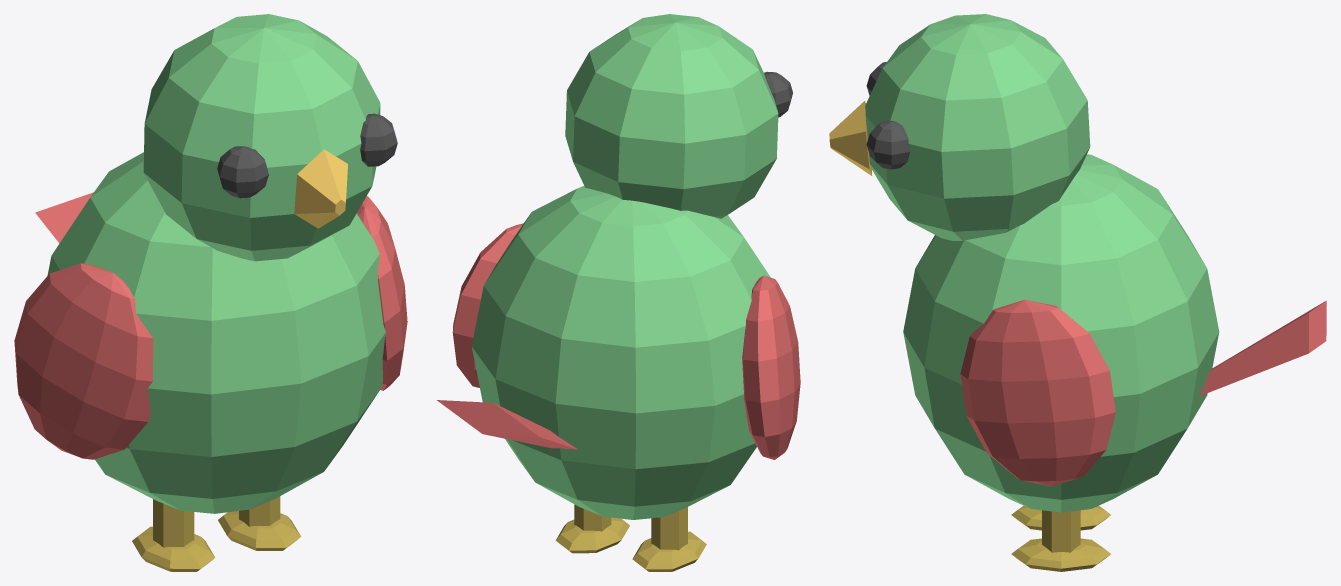
Rendered from grotto_parrot.fbx.
3 renders of one model, left to right at view 1: azimuth 30°, elevation 25°; view 2: azimuth 150°, elevation 25°; view 3: azimuth 270°, elevation 25°, orthographic. The views are drawn at different scales.
Visible parts, largest first — view 1: Parrot_Body, Parrot_Head, Parrot_WingL, Parrot_WingR, Parrot_BeakUpper, Parrot_EyeL, Parrot_FootL, Parrot_FootR, Parrot_LegL, Parrot_EyeR, Parrot_Tail, Parrot_LegR; view 2: Parrot_Body, Parrot_Head, Parrot_WingL, Parrot_WingR, Parrot_Tail, Parrot_FootL, Parrot_FootR, Parrot_LegL, Parrot_EyeL, Parrot_LegR; view 3: Parrot_Body, Parrot_Head, Parrot_WingR, Parrot_Tail, Parrot_FootR, Parrot_BeakUpper, Parrot_EyeR, Parrot_LegR, Parrot_FootL.
Part boxes in pixels (box(x1,y1,x2,y2)): Parrot_Body: box(47, 152, 385, 513); Parrot_Head: box(143, 14, 380, 261); Parrot_WingL: box(14, 263, 153, 459); Parrot_WingR: box(357, 196, 407, 390); Parrot_BeakUpper: box(294, 149, 347, 228); Parrot_EyeL: box(217, 146, 268, 198); Parrot_FootL: box(132, 526, 215, 571); Parrot_FootR: box(218, 511, 300, 550); Parrot_LegL: box(153, 499, 194, 547); Parrot_EyeR: box(360, 113, 397, 166); Parrot_Tail: box(35, 192, 93, 243); Parrot_LegR: box(239, 496, 280, 526); Parrot_Body: box(471, 186, 770, 519); Parrot_Head: box(565, 14, 778, 218); Parrot_WingL: box(742, 275, 800, 459); Parrot_WingR: box(452, 223, 523, 387); Parrot_Tail: box(437, 400, 577, 449); Parrot_FootL: box(632, 531, 706, 571); Parrot_FootR: box(555, 517, 629, 553); Parrot_LegL: box(651, 507, 687, 550); Parrot_EyeL: box(764, 71, 792, 117); Parrot_LegR: box(574, 504, 611, 531); Parrot_Body: box(903, 154, 1219, 512); Parrot_Head: box(865, 14, 1090, 240); Parrot_WingR: box(960, 299, 1115, 486); Parrot_Tail: box(1200, 300, 1326, 395); Parrot_FootR: box(1011, 538, 1110, 571); Parrot_BeakUpper: box(829, 101, 872, 175); Parrot_EyeR: box(866, 120, 910, 169); Parrot_LegR: box(1042, 510, 1080, 552); Parrot_FootL: box(1011, 505, 1110, 530).
Size of the model in its own units: 204 by 298 by 258.
